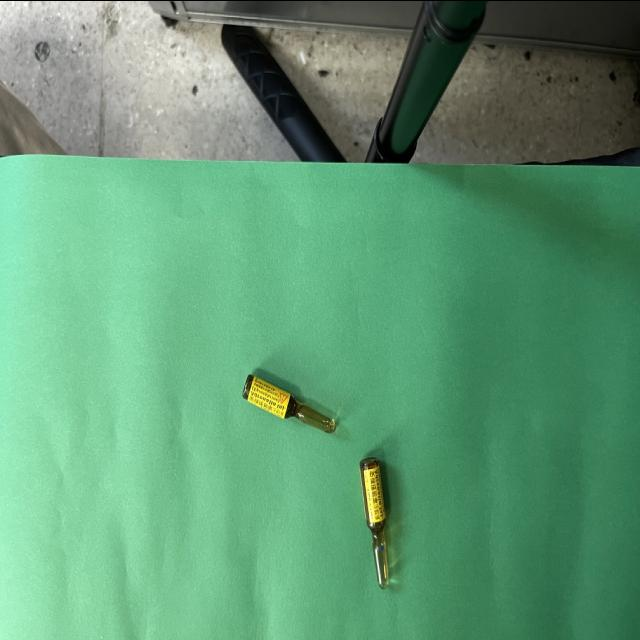Ampoules: (242, 374, 336, 433), (360, 455, 390, 589)
